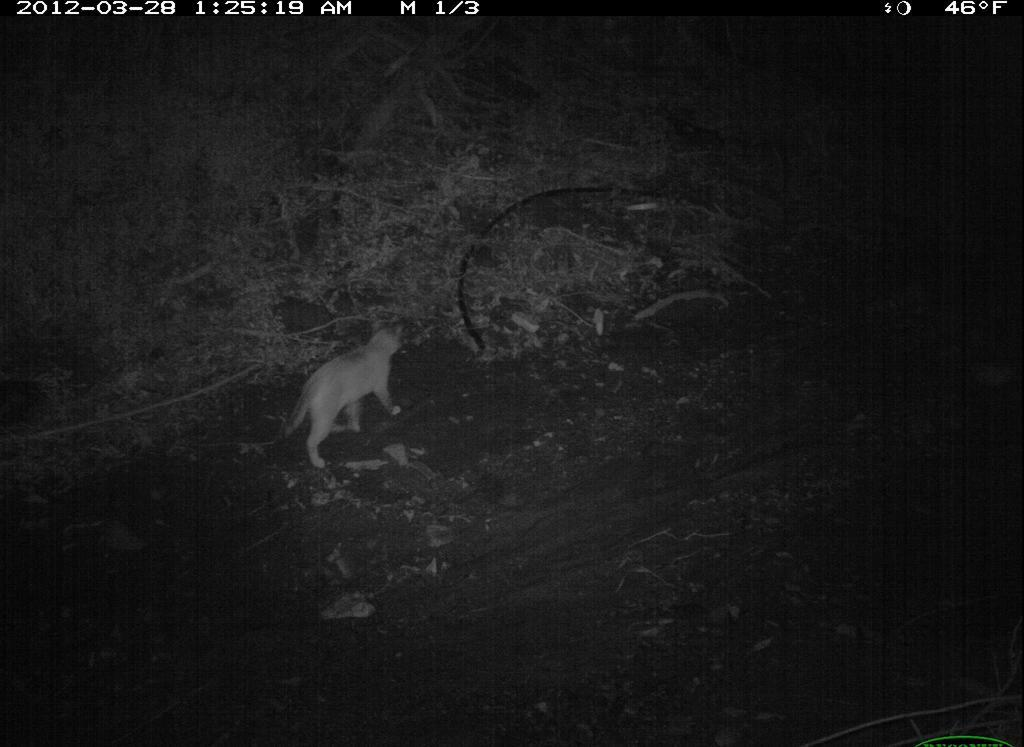cat: (277, 314, 417, 470)
